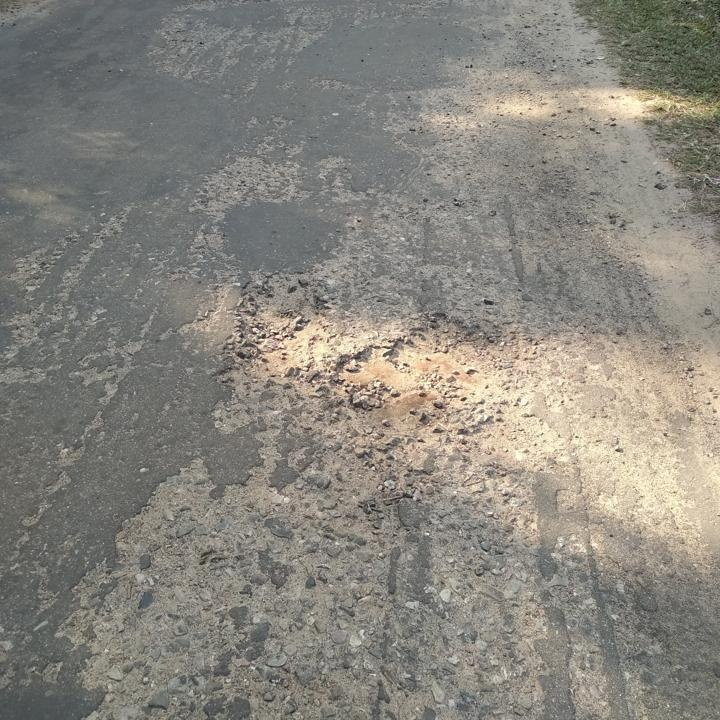pothole: (333, 309, 525, 448), (222, 271, 337, 390)
